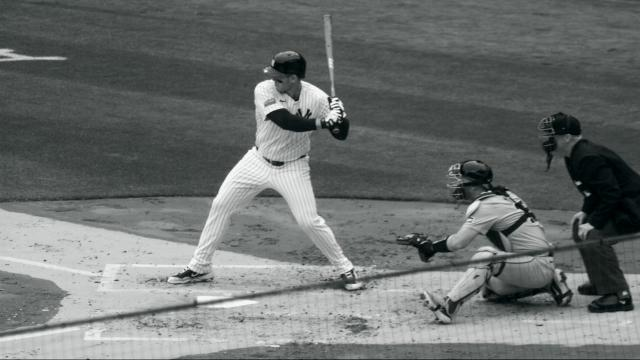baseball bat: (322, 15, 340, 99)
